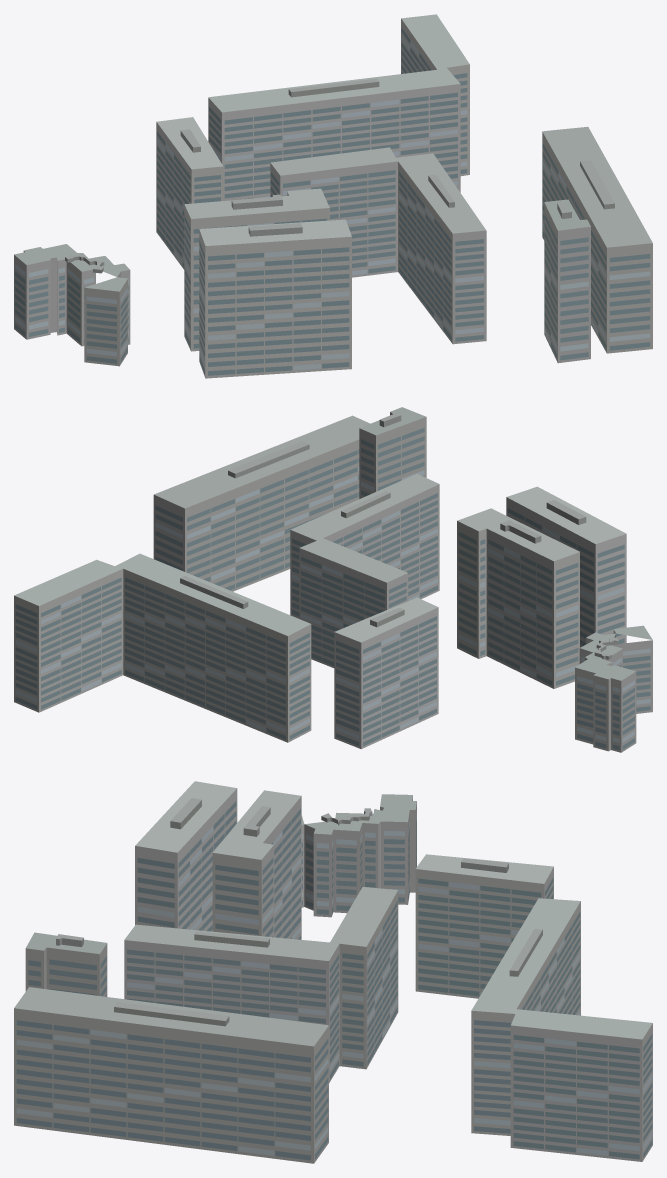
Rendered from apt-a13186907.glb.
3 views of the same model, one above another, from view 1: azimuth 30°, elevation 25°; view 2: azimuth 150°, elevation 25°; view 3: azimuth 270°, elevation 25° (orthographic). The views are drawn at different scales.
Parts seen in each view (by area): view 1: apt-a13186907; view 2: apt-a13186907; view 3: apt-a13186907.
Boxes of the visible parts, bbox=[...] form: apt-a13186907: bbox=[14, 14, 652, 378]; apt-a13186907: bbox=[14, 407, 652, 752]; apt-a13186907: bbox=[14, 781, 652, 1163].
Size of the model in its own units: 192 by 47.81 by 181.
